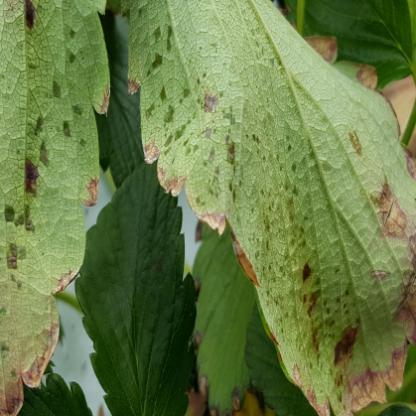Strawberry_Angular_LeafSpot: (120, 0, 415, 415), (0, 0, 111, 416)
